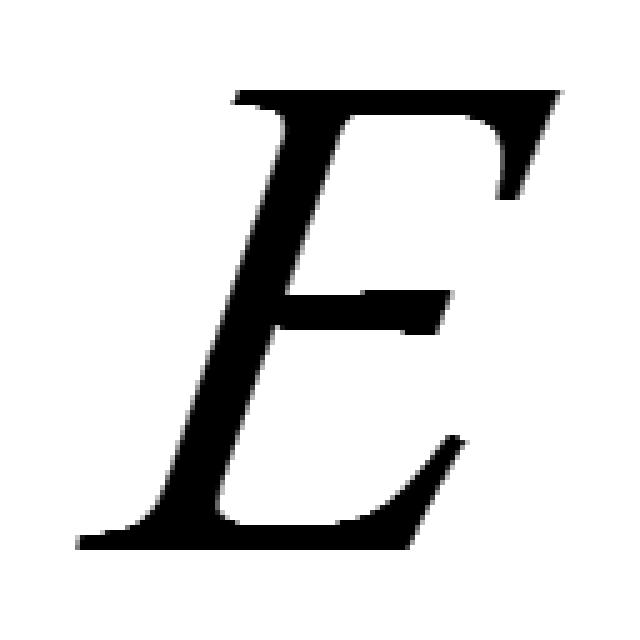E: (75, 90, 560, 555)
